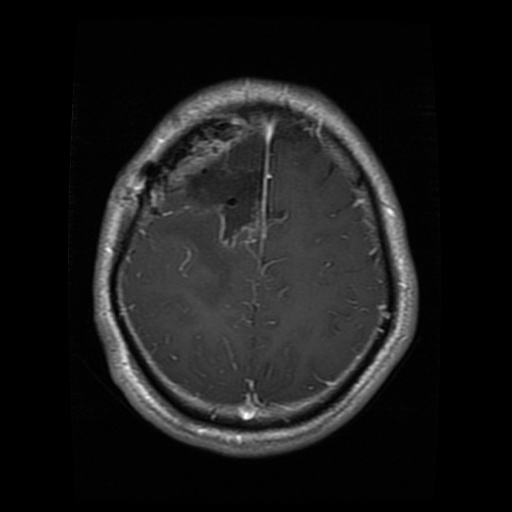glioma: (182, 132, 290, 244)
